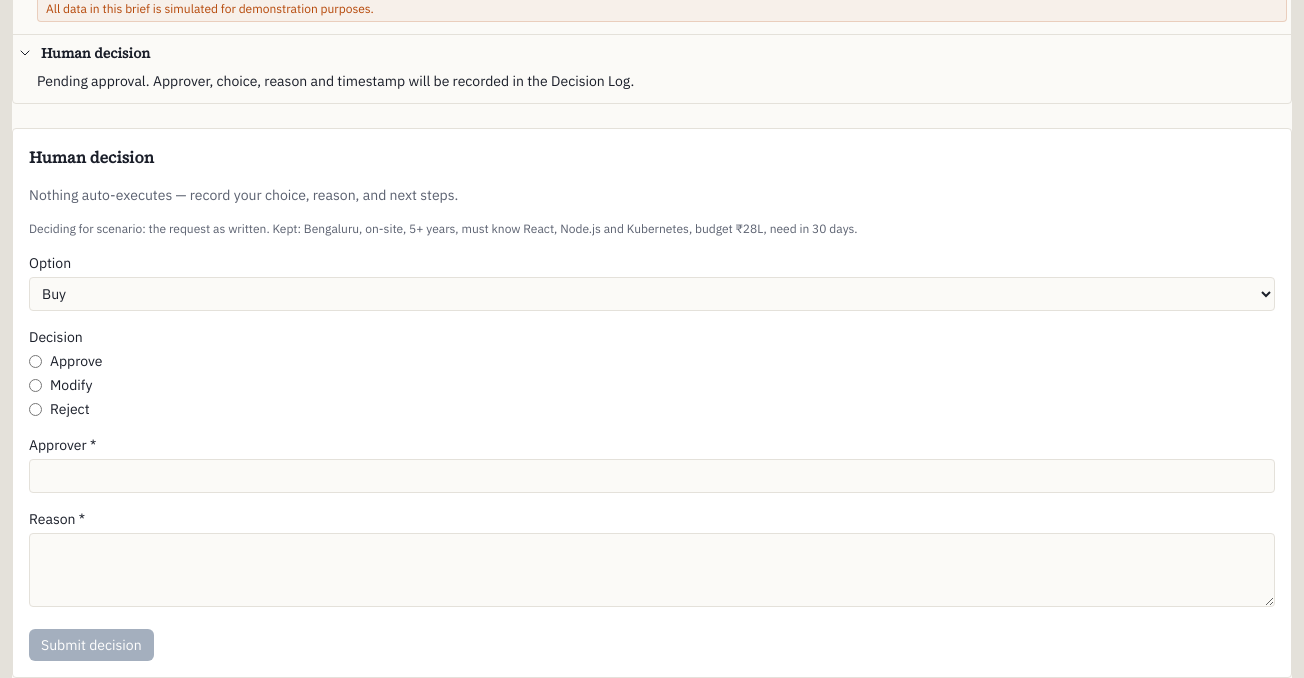
Test: TC22: POST body correctness › POST body contains parsed.req_id, exact state.mask, chosen verb
(page scrolled)
Click the radio button labelled "Approve": (36,361) [29, 354, 42, 368]
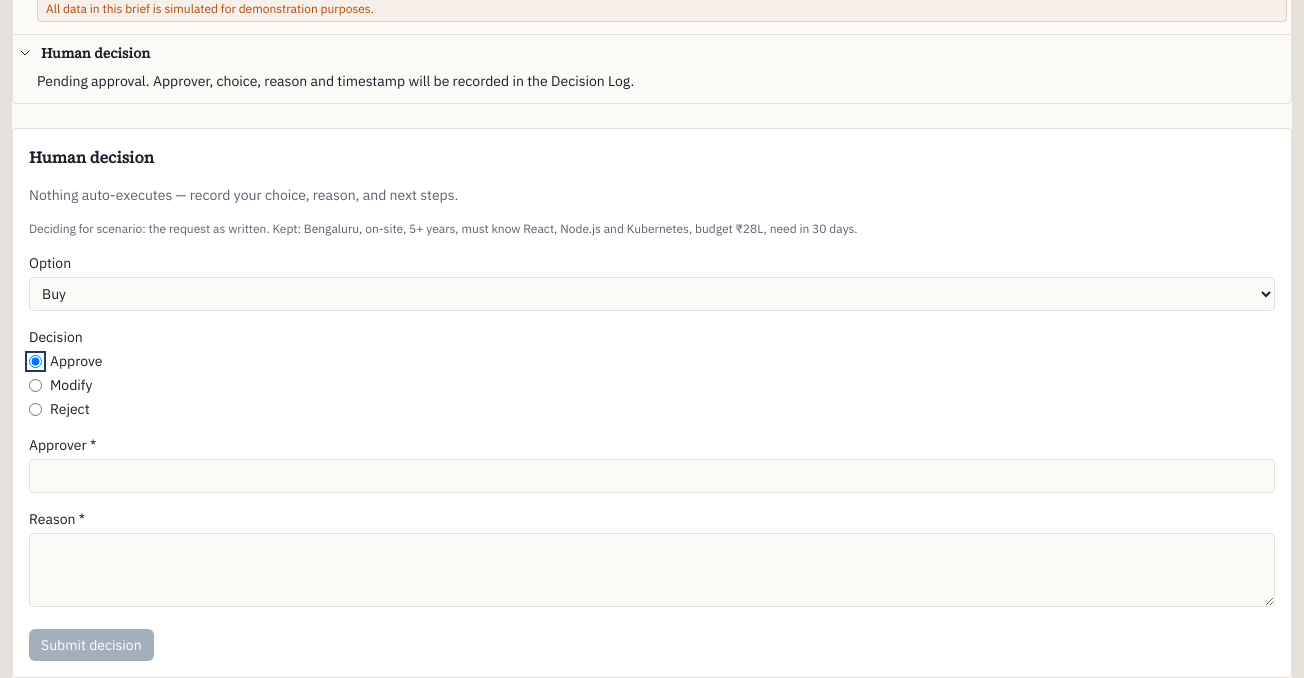
In the field labelled "Approver *": (652,476) [29, 459, 1275, 493], type "Test Manager"
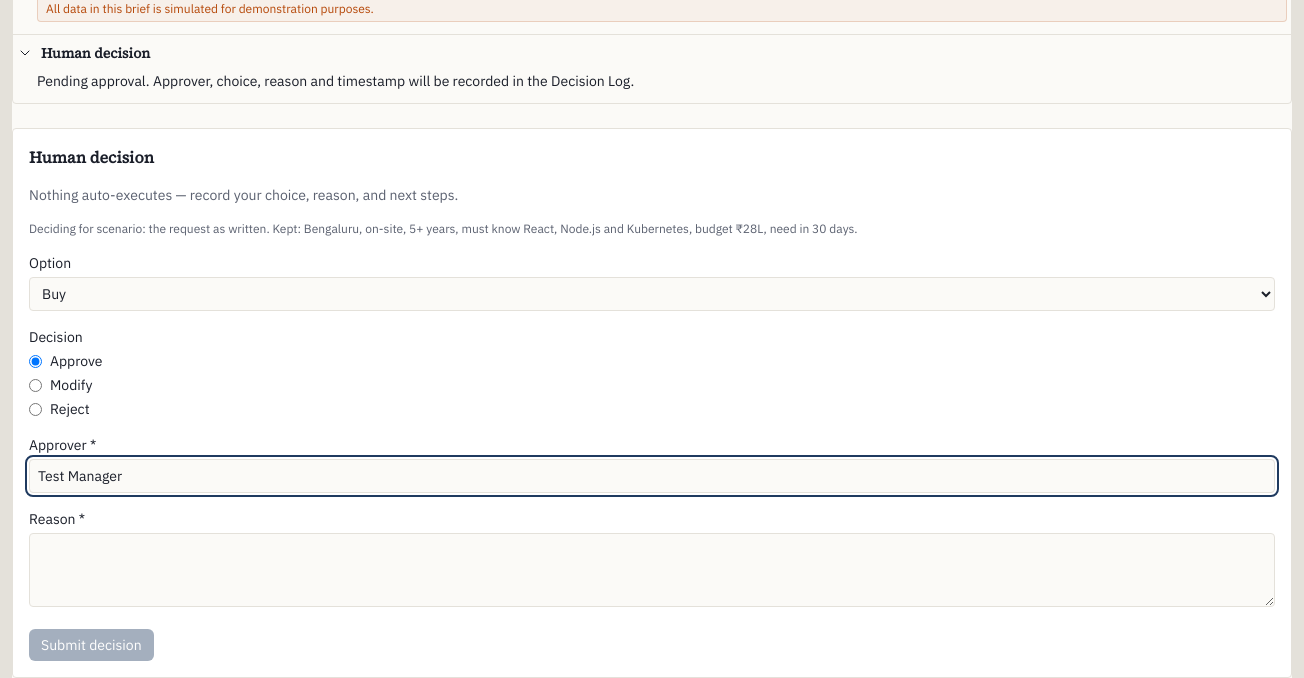
In the text box labelled "Reason *": (652,570) [29, 533, 1275, 607], type "Budget approved and urgency confirmed."
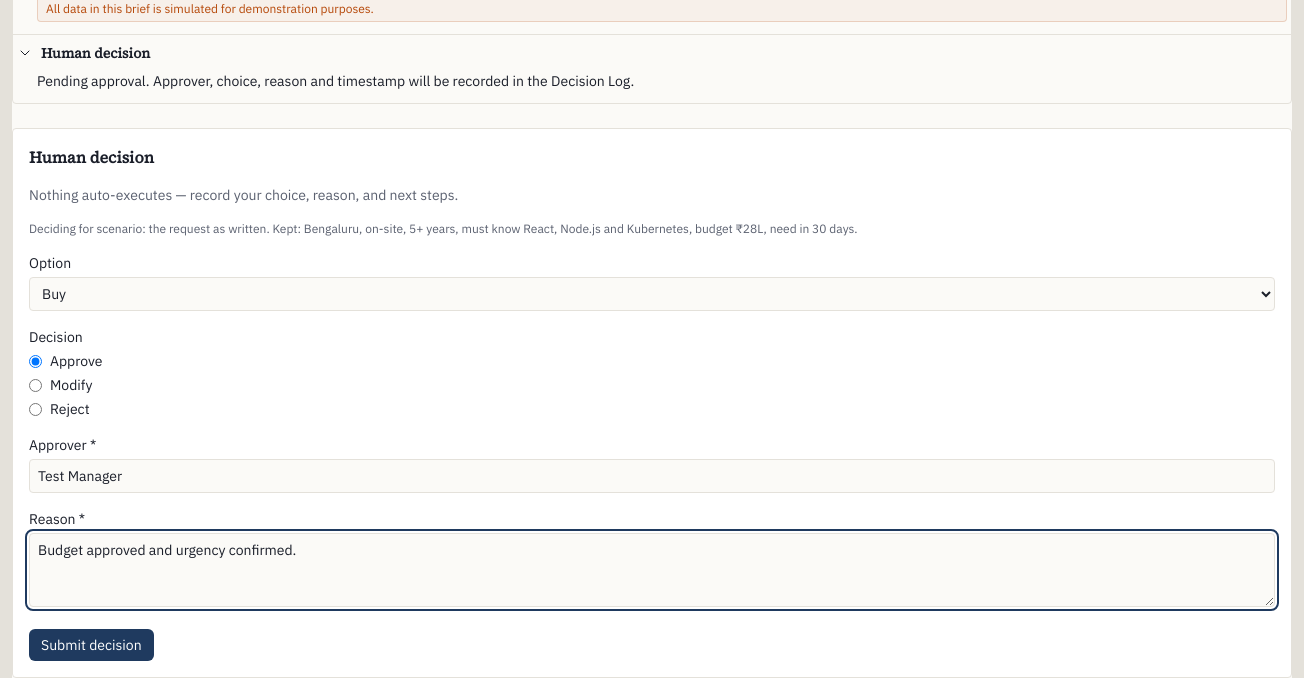
Click the button "Submit decision": (91,645) [29, 629, 154, 661]
(page scrolled)
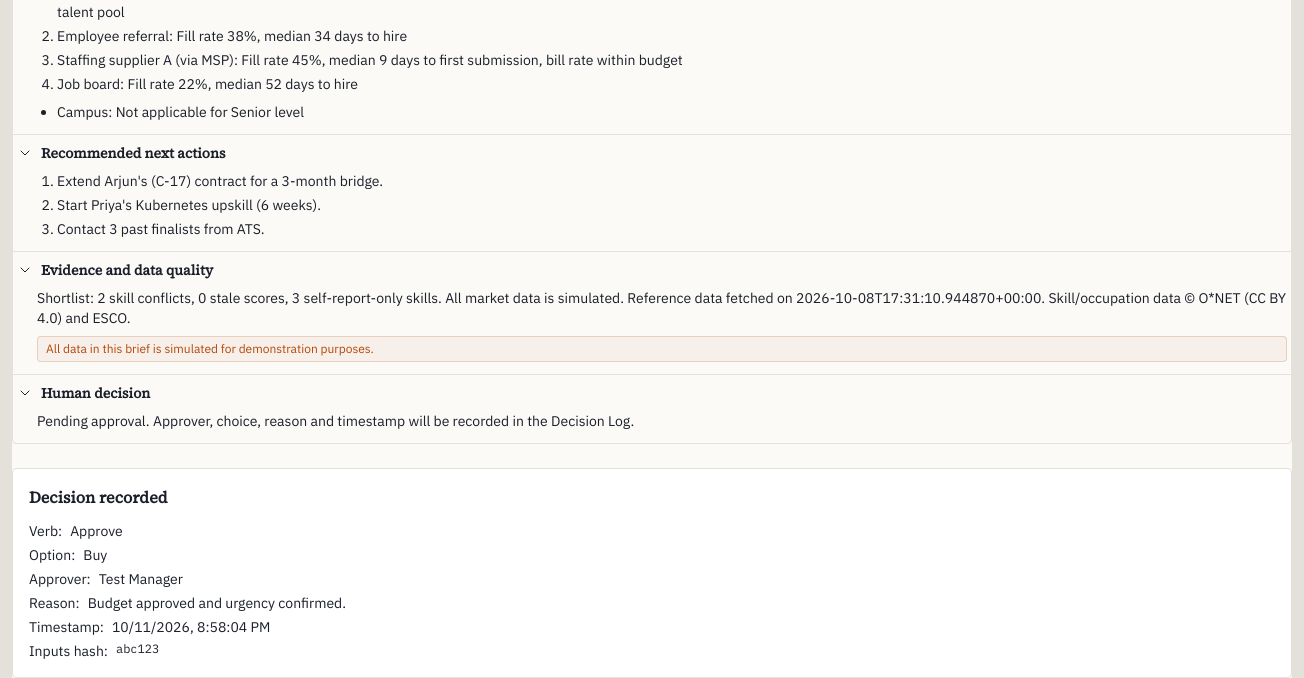
Expected: the heading "Decision recorded" is shown, [29, 486, 168, 508]
Expected: the text "Approve" is shown, [70, 521, 123, 541]
Expected: the text "Test Manager" is shown, [99, 569, 183, 589]
